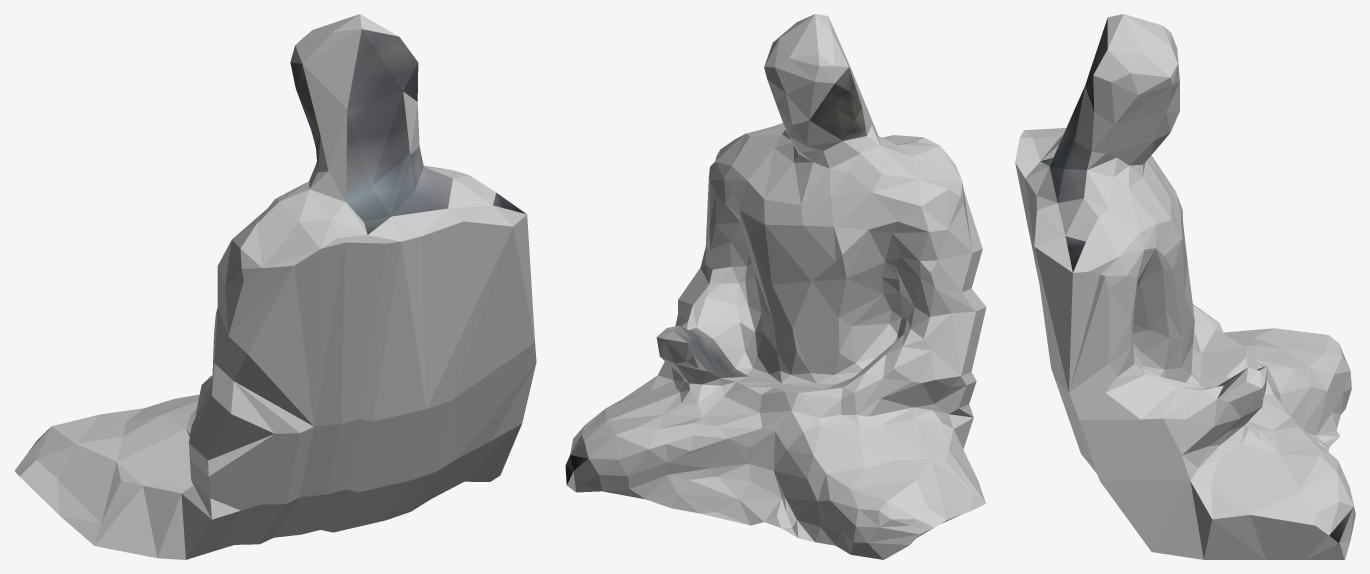
The model's file is Patung 3.fbx.
The picture shows the model from 3 angles, left to right: view 1: azimuth 30°, elevation 25°; view 2: azimuth 150°, elevation 25°; view 3: azimuth 270°, elevation 25°; orthographic projection. The views are drawn at different scales.
Visible parts, largest first — view 1: Patung 2; view 2: Patung 2; view 3: Patung 2.
Boxes of the visible parts, x1,y1,x2,y2 form: Patung 2: (15, 14, 536, 559); Patung 2: (565, 14, 986, 559); Patung 2: (1015, 14, 1355, 559).
Size of the model in its own units: 87.77 by 101 by 65.61.
